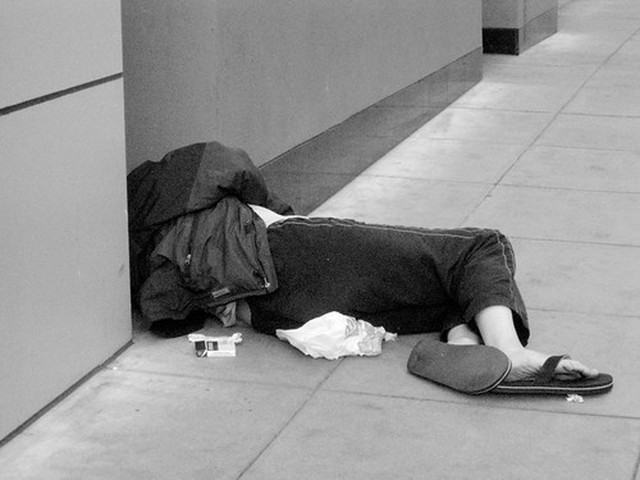Person: (134, 146, 621, 401)
